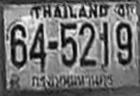1: (99, 21, 108, 64)
2: (79, 22, 95, 66)
4: (29, 22, 45, 68)
5: (60, 22, 76, 66)
6: (10, 24, 26, 68)
9: (115, 21, 131, 64)
BKK: (29, 73, 116, 88)
